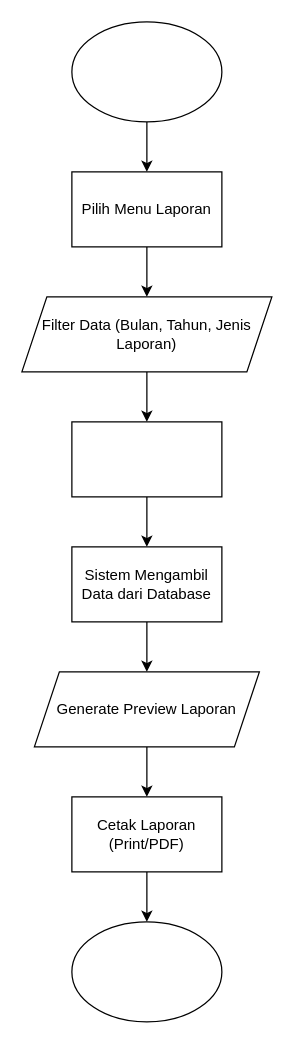
The diagram is 294 pixels wide and 1044 high, and some of its shapes have lost their labels. Each missing label, with the box of its shape:
Klik Cetak / Lihat: (71, 421, 222, 497)
Start: (71, 21, 222, 122)
Stop: (71, 921, 222, 1022)
